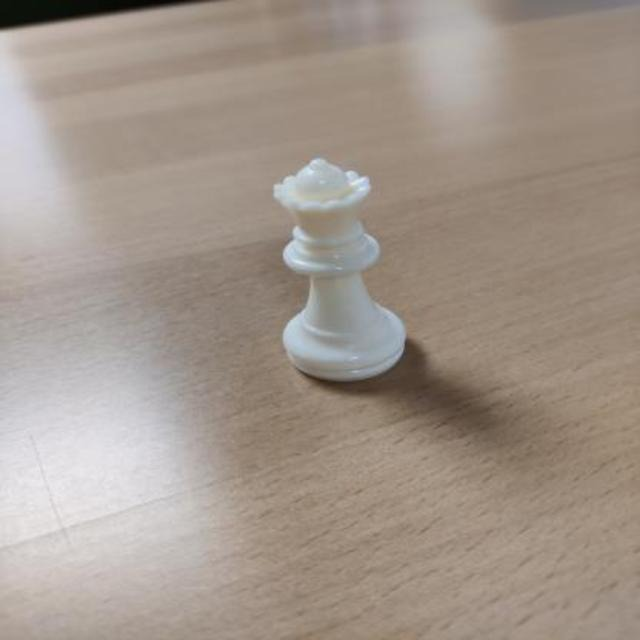white-queen: (274, 159, 406, 383)
